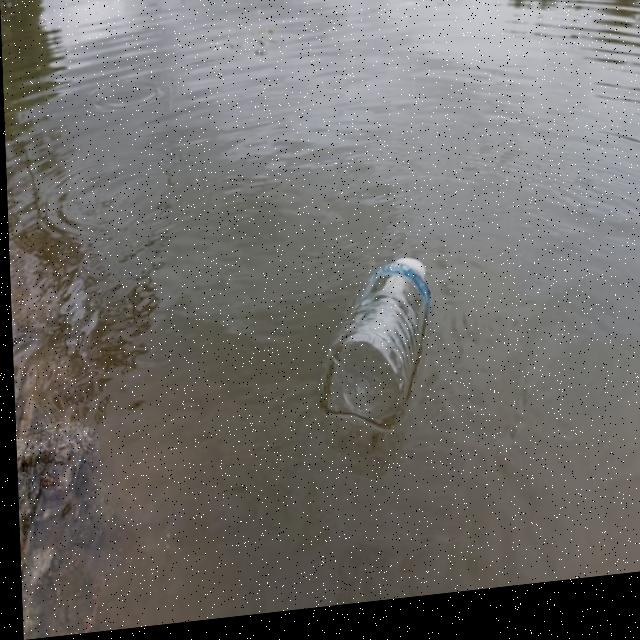waterbottle: (293, 247, 437, 453)
